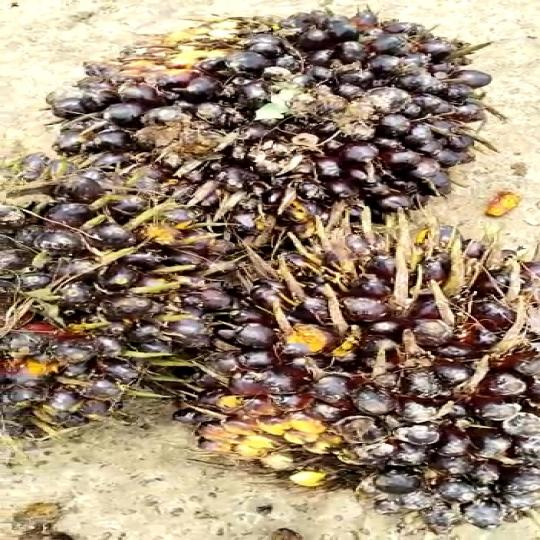mentah: (172, 208, 535, 522), (38, 11, 481, 232), (0, 162, 245, 445)
